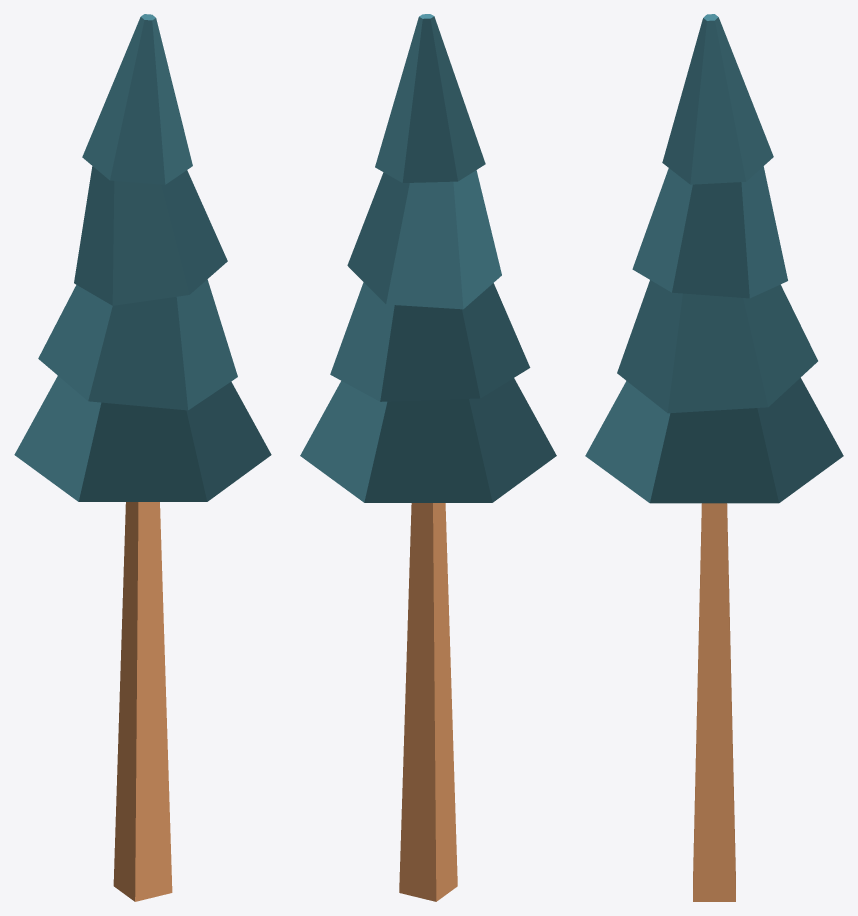
File: tree_pine_tall.obj
The picture shows the model from 3 angles, left to right: view 1: azimuth 30°, elevation 25°; view 2: azimuth 150°, elevation 25°; view 3: azimuth 270°, elevation 25°; orthographic projection.
Visible parts, largest first — view 1: tree_pine_tall; view 2: tree_pine_tall; view 3: tree_pine_tall.
Boxes of the visible parts, x1,y1,x2,y2 form: tree_pine_tall: (14, 14, 271, 901); tree_pine_tall: (300, 14, 556, 901); tree_pine_tall: (585, 14, 843, 901).
Size of the model in its own units: 4.8 by 20.77 by 5.55.
